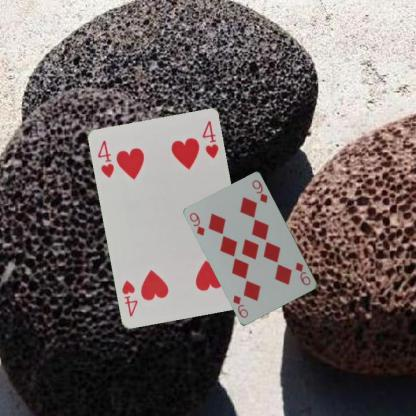4h: (94, 138, 116, 179)
9d: (293, 260, 312, 287), (187, 210, 206, 237)
